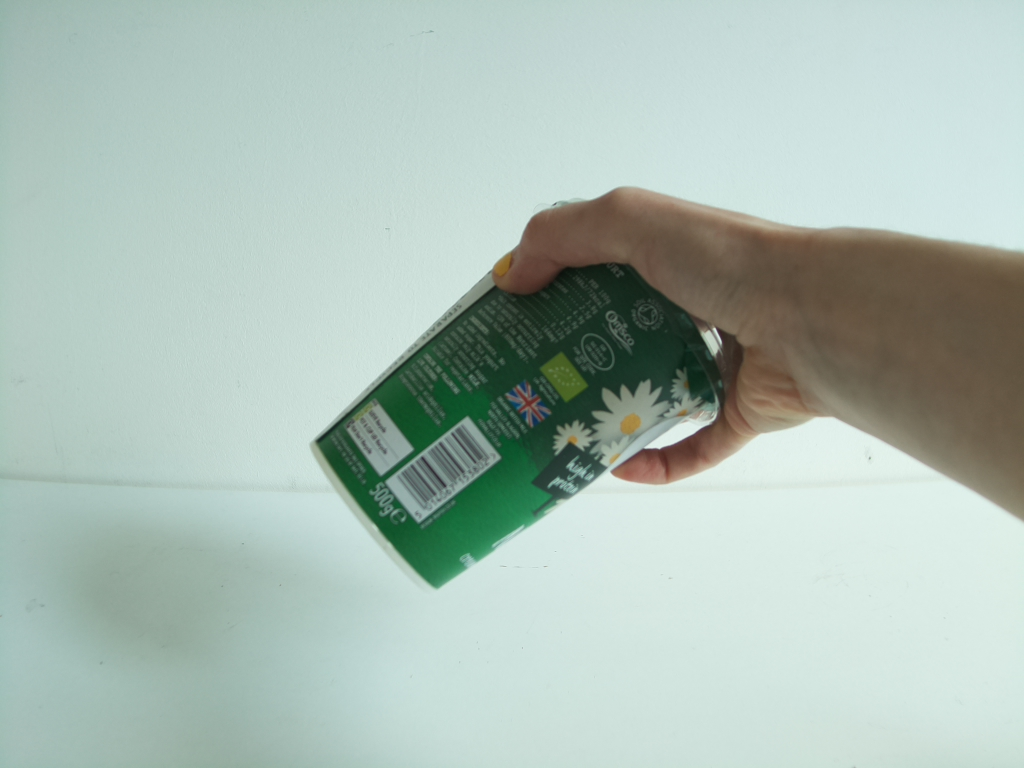yogurt: (305, 196, 731, 601)
